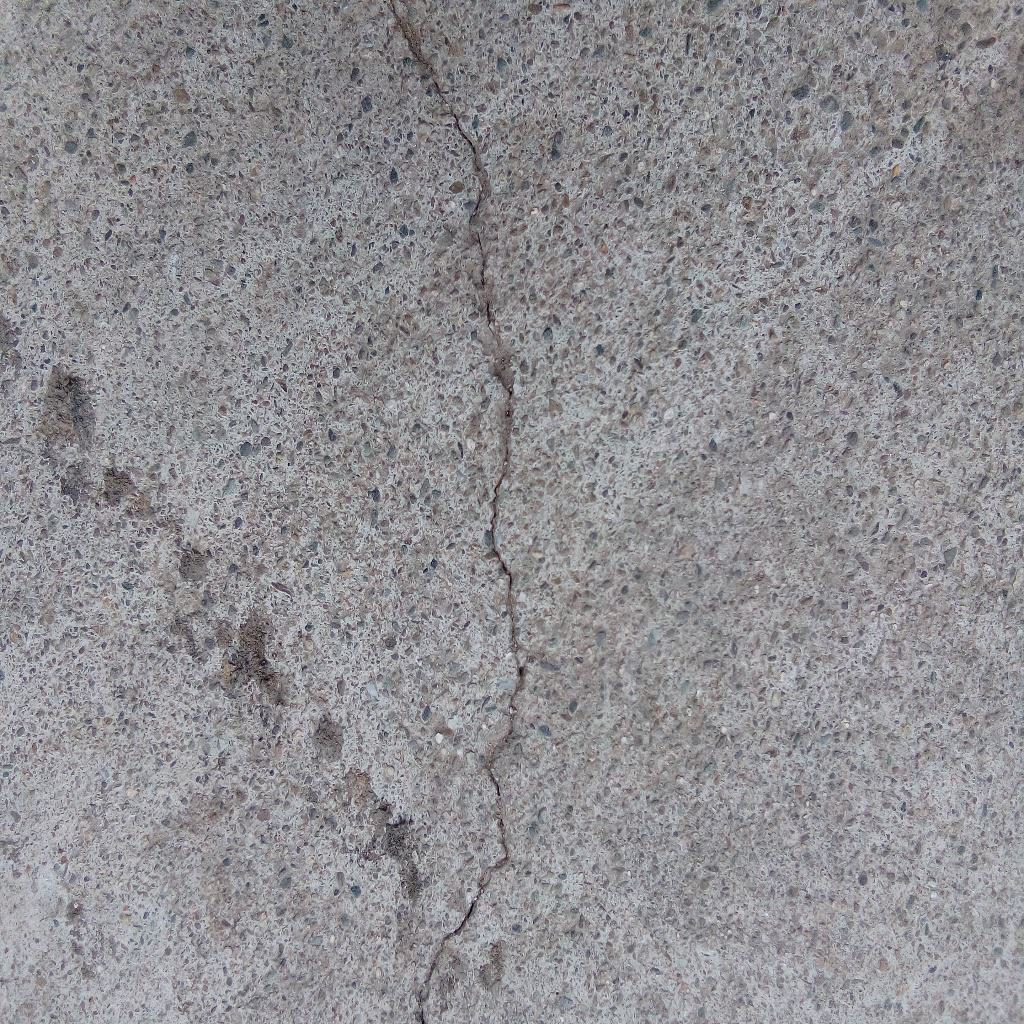Crack: (383, 1, 527, 1024)
